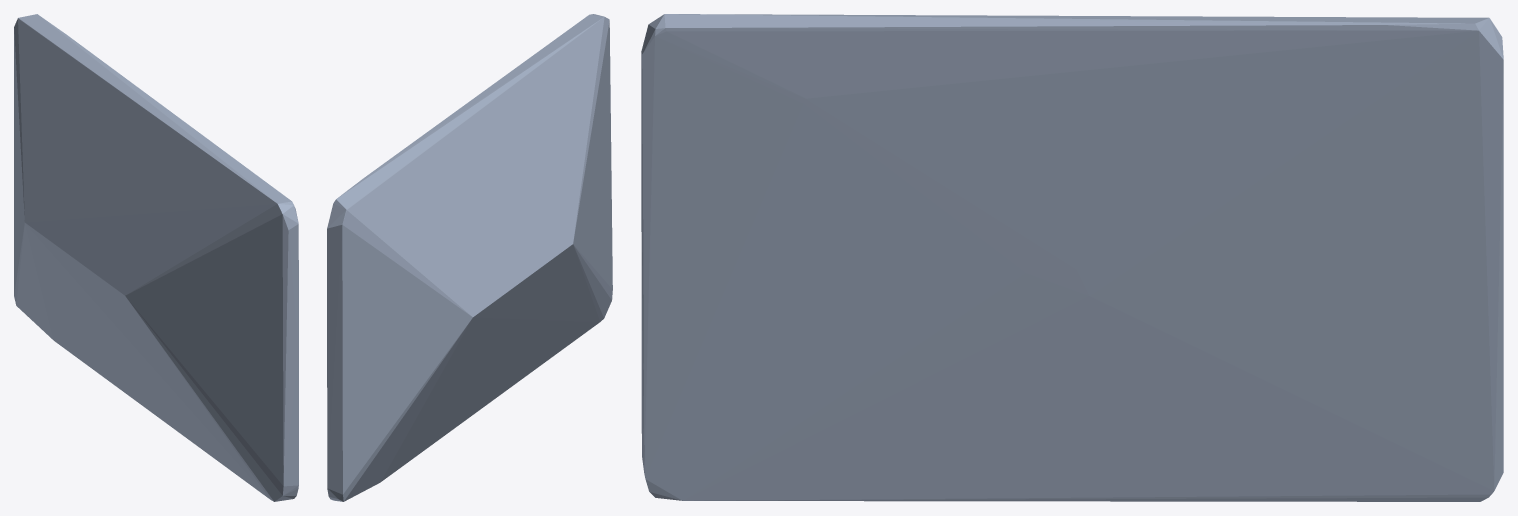
File: socket_a01.glb
3 renders of one model, left to right at view 1: azimuth 30°, elevation 25°; view 2: azimuth 150°, elevation 25°; view 3: azimuth 270°, elevation 25°, orthographic. The views are drawn at different scales.
Visible parts, largest first — view 1: geometry_0; view 2: geometry_0; view 3: geometry_0.
Boxes of the visible parts, box(x1,y1,x2,y2) form: geometry_0: box(14, 14, 298, 501); geometry_0: box(327, 14, 612, 501); geometry_0: box(641, 14, 1503, 501).
Bounding box in the file's own units: 0.0793 × 0.2952 × 0.4798.
